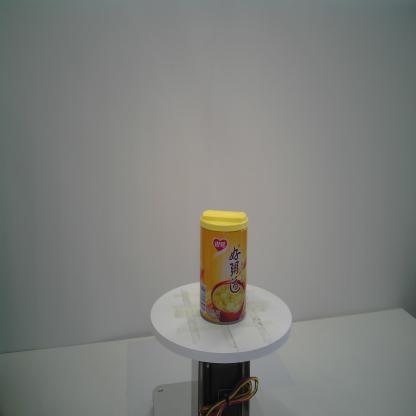Canned Food: (198, 208, 249, 326)
